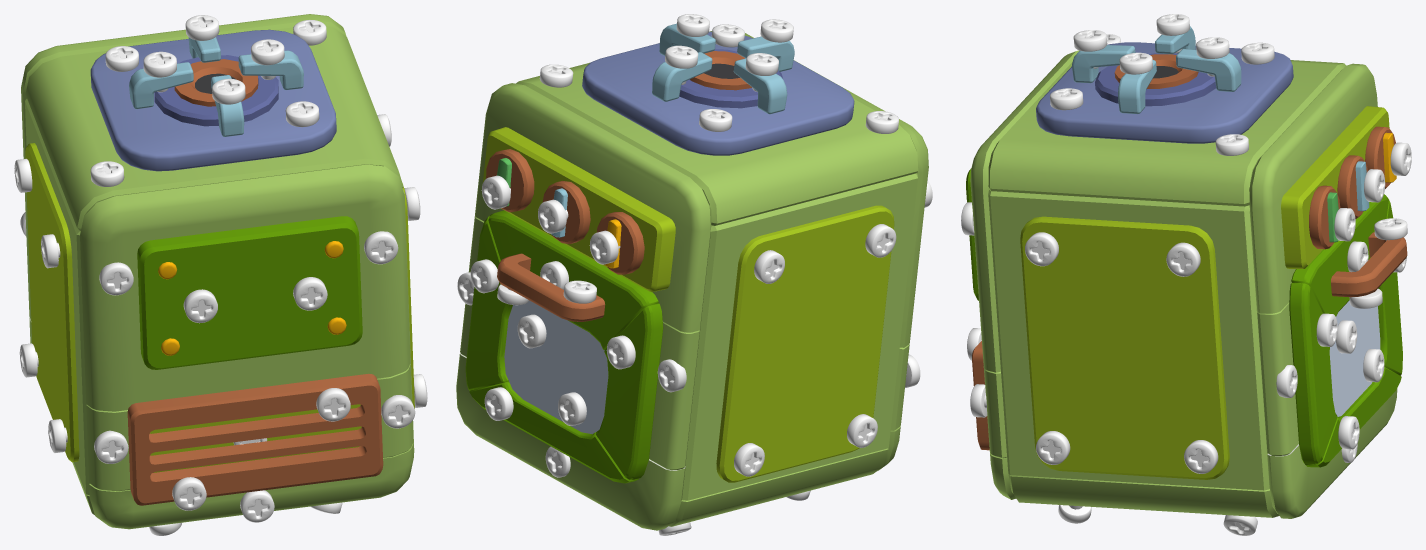
The model's file is Oven.fbx.
3 views of the same model, side by side, from view 1: azimuth 30°, elevation 25°; view 2: azimuth 150°, elevation 25°; view 3: azimuth 270°, elevation 25° (orthographic).
Visible parts, largest first — view 1: Oven_005, Oven_006, Oven_007, Oven_002, Screw (×20), Oven_012, Oven_004, Oven_028, Oven_009, Oven_017, Oven_010, Oven_024 (+3 smaller); view 2: Oven_004, Oven_002, Screw (×23), Oven_017, Oven_012, Oven_030, Oven_008, Oven_015, Oven_028, Oven_031, Oven_027, Oven_001 (+8 smaller); view 3: Oven_003, Oven_002, Screw (×20), Oven_012, Oven_017, Oven_030, Oven_028, Oven_001, Oven_023, Oven_005, Oven_015, Oven_014 (+10 smaller).
Boxes of the visible parts, x1=… form: Oven_005: x1=80, y1=164, x2=410, y2=411; Oven_006: x1=137, y1=216, x2=362, y2=369; Oven_007: x1=127, y1=373, x2=383, y2=505; Oven_002: x1=25, y1=26, x2=403, y2=230; Screw (×20): x1=14, y1=15, x2=415, y2=522; Oven_012: x1=90, y1=29, x2=336, y2=171; Oven_004: x1=25, y1=99, x2=89, y2=494; Oven_028: x1=129, y1=37, x2=303, y2=136; Oven_009: x1=89, y1=443, x2=413, y2=529; Oven_017: x1=21, y1=14, x2=346, y2=158; Oven_010: x1=86, y1=404, x2=130, y2=491; Oven_024: x1=150, y1=404, x2=361, y2=472; Oven_004: x1=682, y1=173, x2=917, y2=500; Oven_002: x1=516, y1=31, x2=918, y2=225; Screw (×23): x1=470, y1=14, x2=896, y2=477; Oven_017: x1=475, y1=83, x2=711, y2=332; Oven_012: x1=582, y1=31, x2=854, y2=155; Oven_030: x1=482, y1=127, x2=675, y2=291; Oven_008: x1=504, y1=300, x2=608, y2=434; Oven_015: x1=456, y1=352, x2=685, y2=530; Oven_028: x1=652, y1=23, x2=794, y2=114; Oven_031: x1=595, y1=303, x2=663, y2=480; Oven_027: x1=488, y1=210, x2=658, y2=349; Oven_001: x1=669, y1=448, x2=888, y2=526; Oven_003: x1=988, y1=189, x2=1269, y2=490; Oven_002: x1=988, y1=60, x2=1345, y2=206; Screw (×20): x1=1025, y1=14, x2=1411, y2=535; Oven_012: x1=1036, y1=42, x2=1293, y2=143; Oven_017: x1=1249, y1=63, x2=1377, y2=313; Oven_030: x1=1281, y1=106, x2=1396, y2=268; Oven_028: x1=1072, y1=26, x2=1241, y2=114; Oven_001: x1=1008, y1=474, x2=1279, y2=517; Oven_023: x1=1289, y1=282, x2=1337, y2=464; Oven_005: x1=970, y1=50, x2=1079, y2=372; Oven_015: x1=1267, y1=388, x2=1397, y2=518; Oven_014: x1=1257, y1=302, x2=1298, y2=455.
Size of the model in its own units: 8.66 by 10.14 by 9.01.
3 materials, 1 textured.
